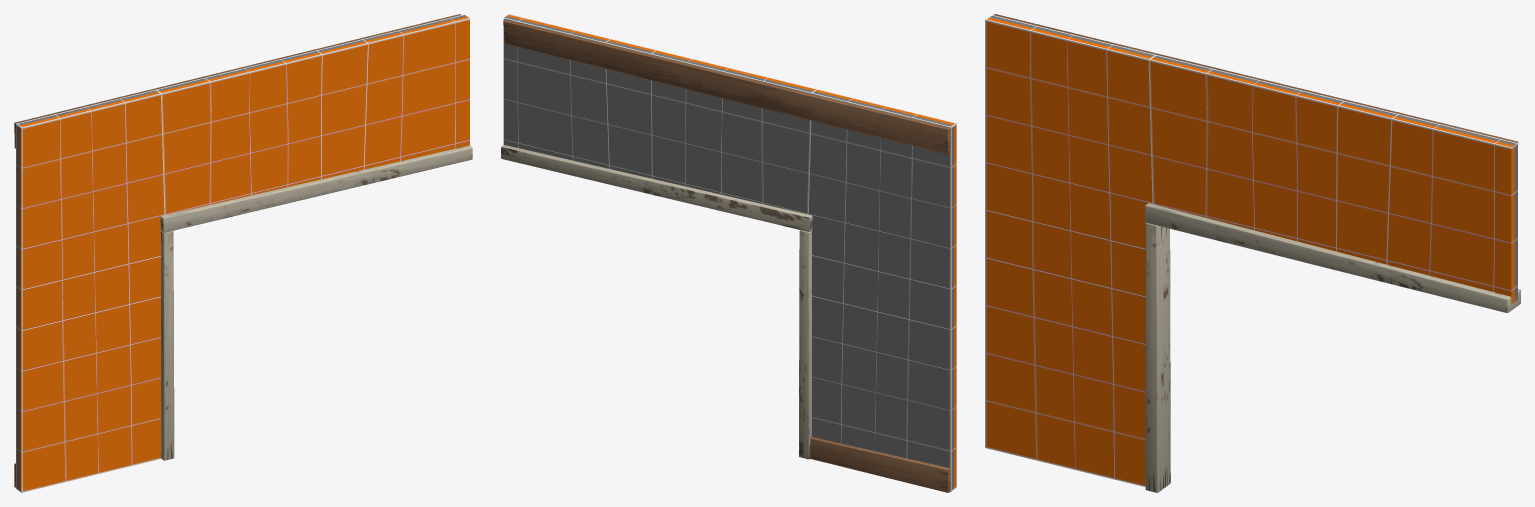
Rendered from Hangar01WD_7.FBX.
3 renders of one model, left to right at view 1: azimuth 30°, elevation 25°; view 2: azimuth 150°, elevation 25°; view 3: azimuth 330°, elevation 25°, orthographic. The views are drawn at different scales.
Parts seen in each view (by area): view 1: Hangar01WD_7; view 2: Hangar01WD_7; view 3: Hangar01WD_7.
Part boxes in pixels (x1,y1,x2,y2): Hangar01WD_7: [14, 14, 472, 492]; Hangar01WD_7: [501, 14, 956, 492]; Hangar01WD_7: [985, 14, 1520, 492].
Size of what is drawn, in the model's own units: 4.5 by 3.5 by 0.2017.
